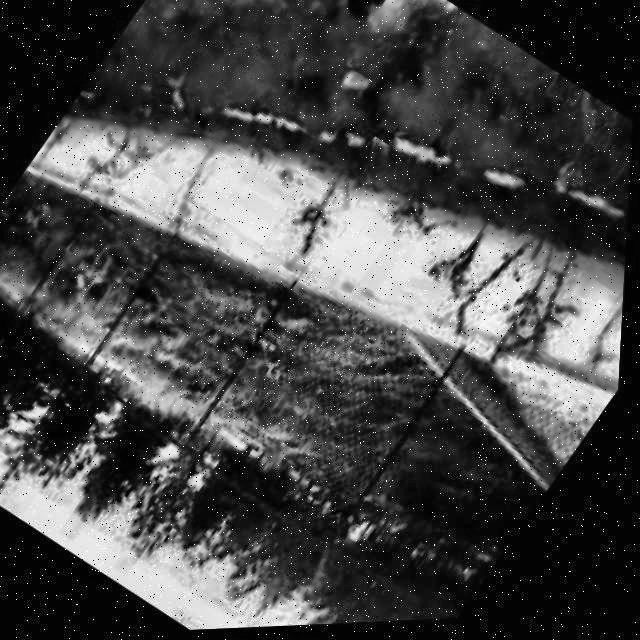Fire: (299, 0, 430, 58)
